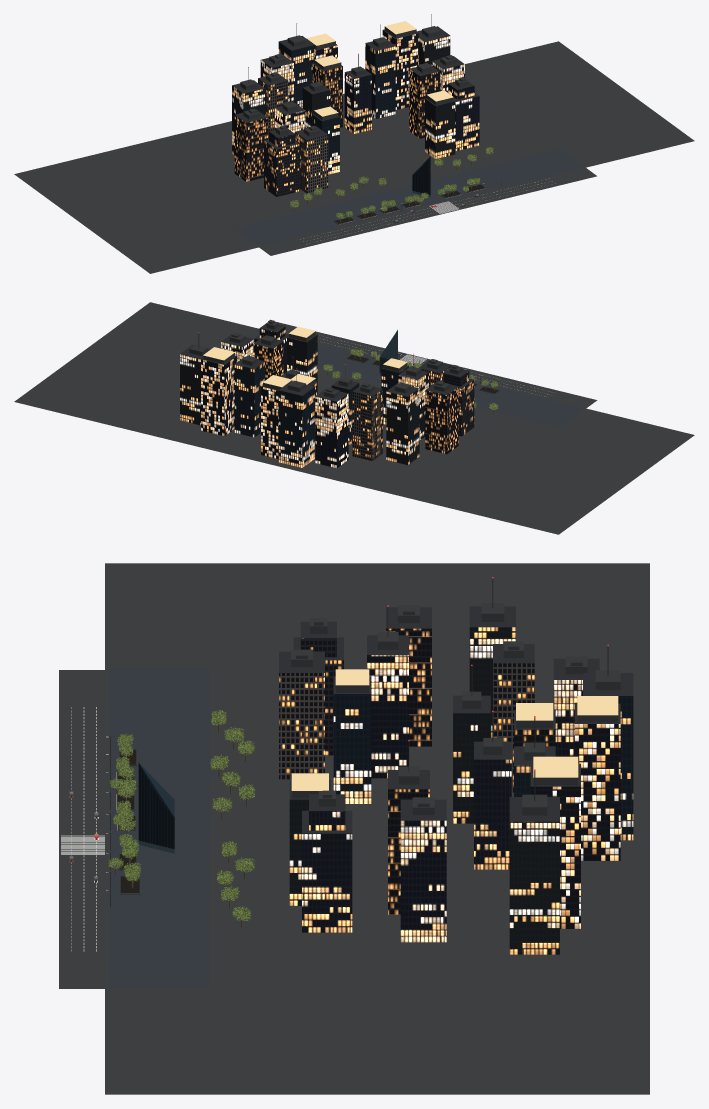
Rendered from collins_street_web.glb.
3 renders of one model, top to bottom at view 1: azimuth 30°, elevation 25°; view 2: azimuth 150°, elevation 25°; view 3: azimuth 270°, elevation 25°, orthographic. The views are drawn at different scales.
Parts seen in each view (by area): view 1: Env_City_Ground, Env_Plaza_Pavers, Env_Road_Asphalt, Bldg_Tower_L5, Bldg_Far_R1, Bldg_Tower_L2, Bldg_Tower_L1, Bldg_Tower_R1, Bldg_Center_03, Bldg_Far_R2, Bldg_Tower_R3, Bldg_Tower_R2 (+10 smaller); view 2: Env_City_Ground, Env_Plaza_Pavers, Bldg_Far_C2, Bldg_Far_R2, Bldg_Far_L1, Env_Road_Asphalt, Bldg_Far_C1, Bldg_Tower_L5, Bldg_Far_L2, Bldg_Far_R1, Bldg_Far_R3, Bldg_Far_C3 (+7 smaller); view 3: Env_City_Ground, Env_Plaza_Pavers, Env_Road_Asphalt, Bldg_Far_R3, Bldg_Tower_R4, Bldg_Far_C3, Bldg_Tower_R2, Bldg_Tower_L1, Bldg_Tower_L4, Bldg_Center_03, Bldg_Tower_L3, Bldg_Far_R2 (+18 smaller).
Boxes of the visible parts, bbox=[...] form: Env_City_Ground: bbox=[14, 41, 694, 273]; Env_Plaza_Pavers: bbox=[233, 148, 584, 246]; Env_Road_Asphalt: bbox=[259, 167, 596, 255]; Bldg_Tower_L5: bbox=[234, 109, 267, 181]; Bldg_Far_R1: bbox=[365, 38, 395, 118]; Bldg_Tower_L2: bbox=[264, 139, 299, 196]; Bldg_Tower_L1: bbox=[295, 126, 328, 193]; Bldg_Tower_R1: bbox=[425, 98, 455, 158]; Bldg_Center_03: bbox=[344, 68, 371, 133]; Bldg_Far_R2: bbox=[382, 29, 418, 109]; Bldg_Tower_R3: bbox=[409, 64, 439, 138]; Bldg_Tower_R2: bbox=[447, 91, 479, 150]; Env_City_Ground: bbox=[14, 302, 694, 534]; Env_Plaza_Pavers: bbox=[248, 329, 584, 427]; Bldg_Far_C2: bbox=[278, 381, 314, 467]; Bldg_Far_R2: bbox=[201, 355, 237, 436]; Bldg_Far_L1: bbox=[386, 383, 419, 465]; Env_Road_Asphalt: bbox=[279, 322, 597, 408]; Bldg_Far_C1: bbox=[315, 388, 348, 468]; Bldg_Tower_L5: bbox=[425, 382, 458, 454]; Bldg_Far_L2: bbox=[352, 385, 382, 460]; Bldg_Far_R1: bbox=[234, 356, 264, 437]; Bldg_Far_R3: bbox=[180, 344, 210, 425]; Bldg_Far_C3: bbox=[261, 385, 278, 459]; Env_City_Ground: bbox=[105, 563, 649, 1094]; Env_Plaza_Pavers: bbox=[109, 669, 209, 988]; Env_Road_Asphalt: bbox=[59, 670, 104, 988]; Bldg_Far_R3: bbox=[509, 797, 559, 954]; Bldg_Tower_R4: bbox=[400, 799, 446, 942]; Bldg_Far_C3: bbox=[574, 702, 620, 860]; Bldg_Tower_R2: bbox=[302, 810, 352, 932]; Bldg_Tower_L1: bbox=[279, 651, 324, 779]; Bldg_Tower_L4: bbox=[367, 635, 408, 778]; Bldg_Center_03: bbox=[474, 741, 511, 869]; Bldg_Tower_L3: bbox=[333, 676, 371, 803]; Bldg_Far_R2: bbox=[530, 763, 580, 928].
Size of the model in its own units: 600 by 97.2 by 282.
Materials: 39 (14 with a texture image).
